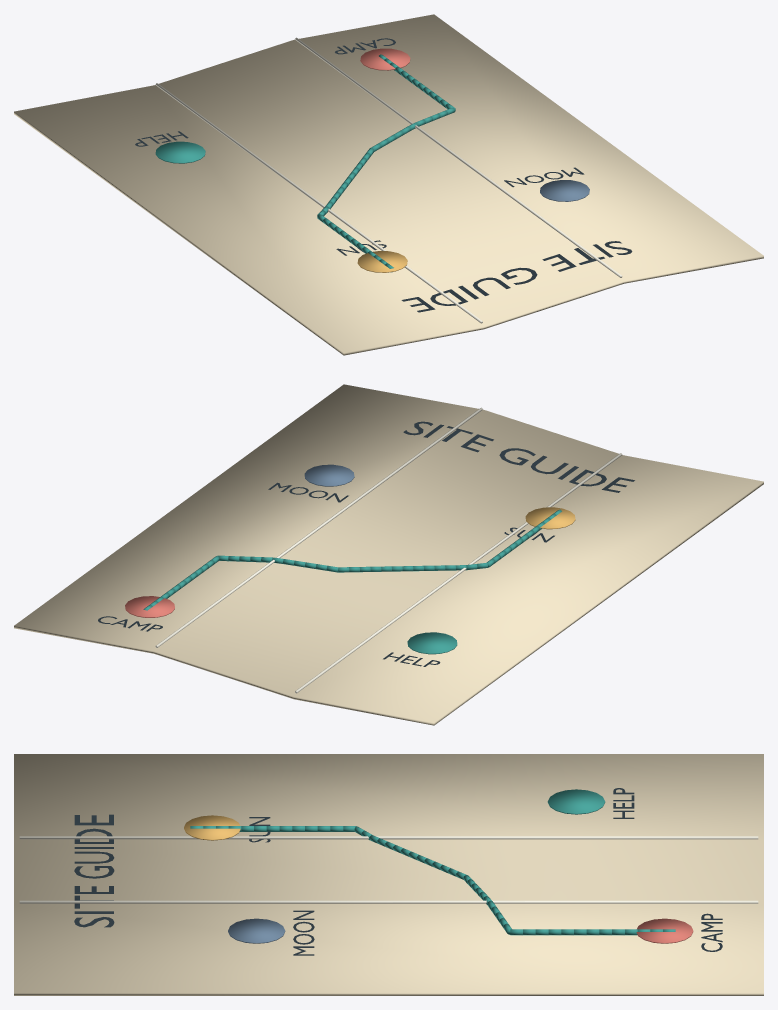
File: AH03_Map.fbx
3 views of the same model, one above another, from view 1: azimuth 30°, elevation 25°; view 2: azimuth 150°, elevation 25°; view 3: azimuth 270°, elevation 25° (orthographic). The views are drawn at different scales.
Parts seen in each view (by area): view 1: AH03_Map_AH03_Cream, AH03_Map_AH03_Mint, AH03_Map_AH03_White, AH03_Map_AH03_Dark, AH03_Map_AH03_Blue, AH03_Map_AH03_Rose, AH03_Map_AH03_Gold; view 2: AH03_Map_AH03_Cream, AH03_Map_AH03_Mint, AH03_Map_AH03_White, AH03_Map_AH03_Dark, AH03_Map_AH03_Blue, AH03_Map_AH03_Rose, AH03_Map_AH03_Gold; view 3: AH03_Map_AH03_Cream, AH03_Map_AH03_White, AH03_Map_AH03_Mint, AH03_Map_AH03_Dark, AH03_Map_AH03_Blue, AH03_Map_AH03_Rose, AH03_Map_AH03_Gold.
Boxes of the visible parts, x1,y1,x2,y2 form: AH03_Map_AH03_Cream: (14,14,763,355); AH03_Map_AH03_Mint: (155,54,455,272); AH03_Map_AH03_White: (155,37,622,323); AH03_Map_AH03_Dark: (135,38,632,312); AH03_Map_AH03_Blue: (540,180,589,201); AH03_Map_AH03_Rose: (360,48,410,70); AH03_Map_AH03_Gold: (357,251,407,272); AH03_Map_AH03_Cream: (14,384,763,725); AH03_Map_AH03_Mint: (143,509,561,654); AH03_Map_AH03_White: (155,407,622,693); AH03_Map_AH03_Dark: (98,421,634,666); AH03_Map_AH03_Blue: (304,464,354,486); AH03_Map_AH03_Rose: (125,596,174,617); AH03_Map_AH03_Gold: (525,507,575,529); AH03_Map_AH03_Cream: (14,754,763,995); AH03_Map_AH03_White: (19,836,758,903); AH03_Map_AH03_Mint: (190,789,675,935); AH03_Map_AH03_Dark: (74,788,722,955); AH03_Map_AH03_Blue: (228,918,285,943); AH03_Map_AH03_Rose: (636,918,693,943); AH03_Map_AH03_Gold: (184,815,240,840).
Bounding box in the file's own units: 50.02 × 2.18 × 68.
